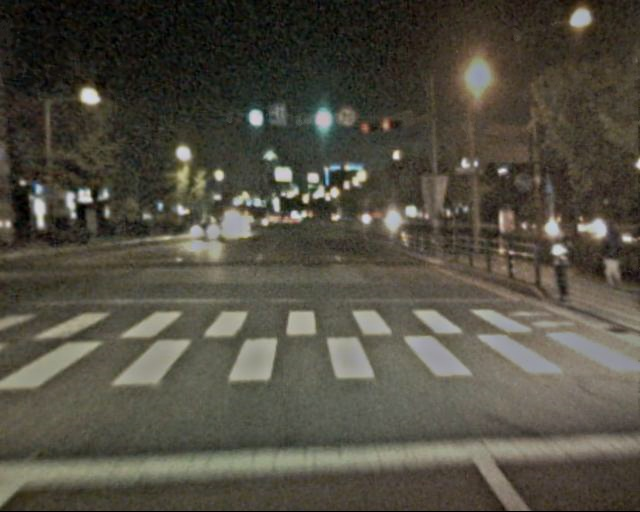person: (534, 225, 579, 309), (583, 219, 629, 298)
